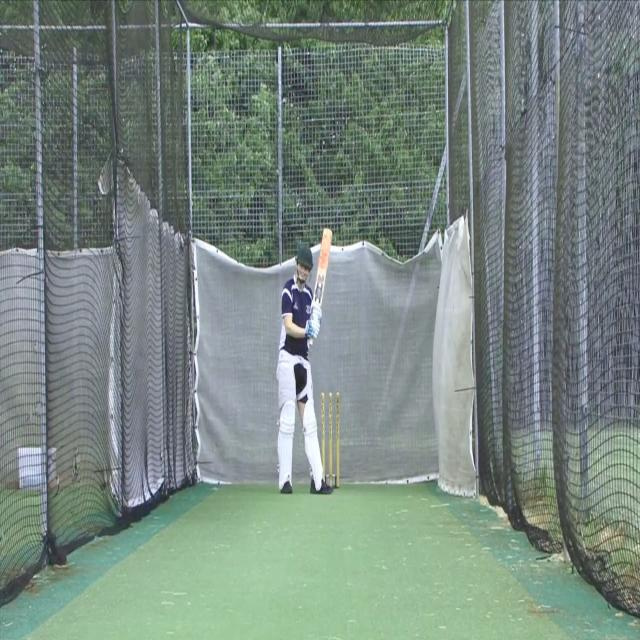batsman: (275, 226, 334, 497)
